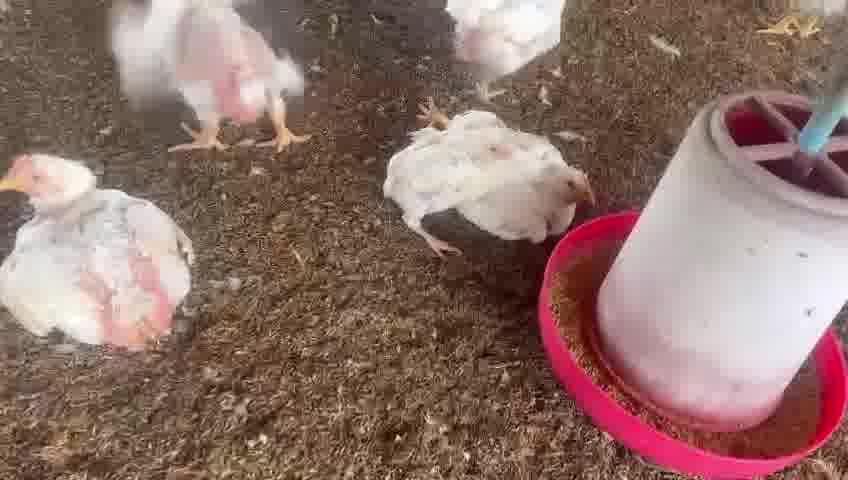AbNormal: (0, 153, 189, 347), (382, 99, 591, 246)
Normal: (109, 4, 310, 153), (440, 1, 560, 102)
